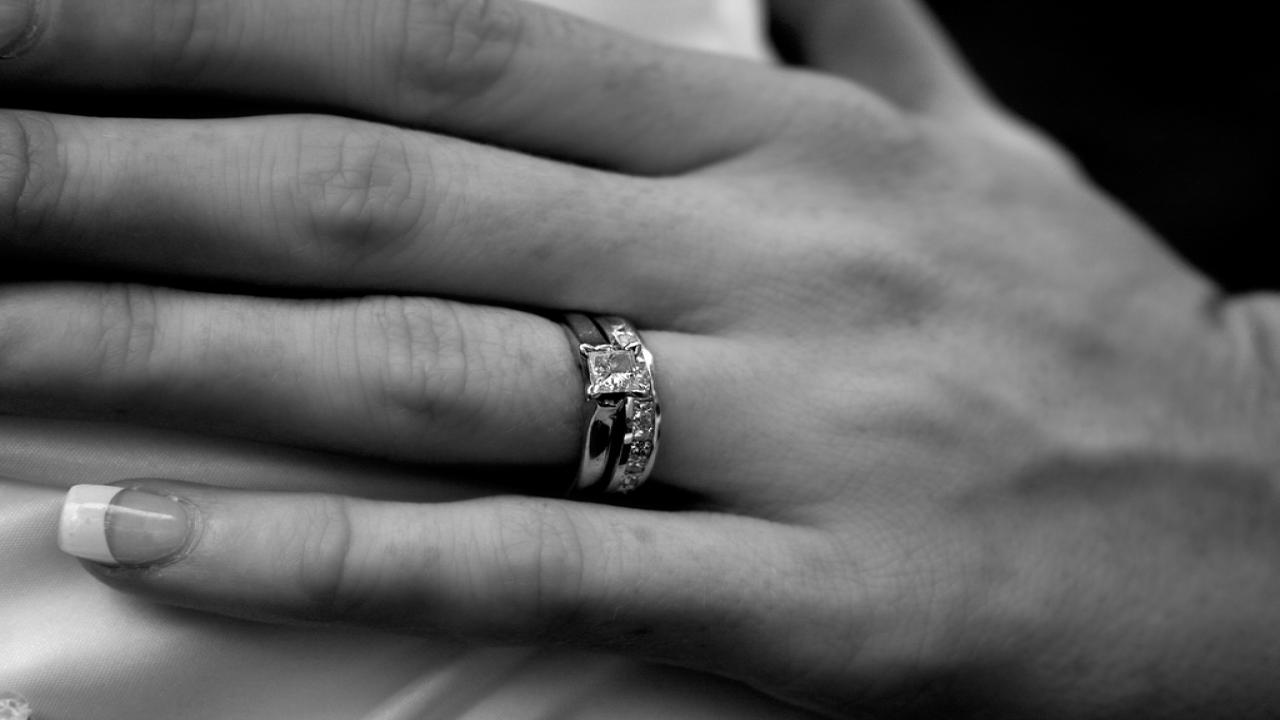ring: (555, 306, 665, 500)
